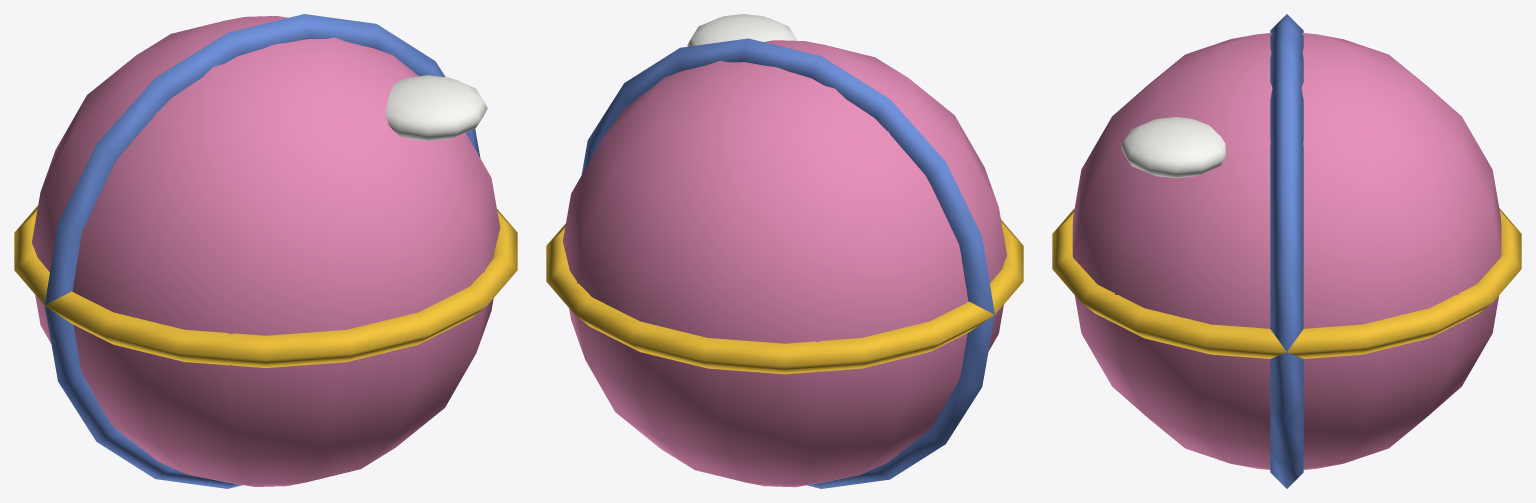
The model's file is bouncy_ball.glb.
The picture shows the model from 3 angles, left to right: view 1: azimuth 30°, elevation 25°; view 2: azimuth 150°, elevation 25°; view 3: azimuth 270°, elevation 25°; orthographic projection. The views are drawn at different scales.
Visible parts, largest first — view 1: root; view 2: root; view 3: root.
Part boxes in pixels (left/top/right/bottom): root: left=14, top=14, right=517, bottom=488; root: left=546, top=14, right=1023, bottom=488; root: left=1052, top=14, right=1521, bottom=488.
Size of the model in its own units: 0.344 by 0.3388 by 0.3388.
